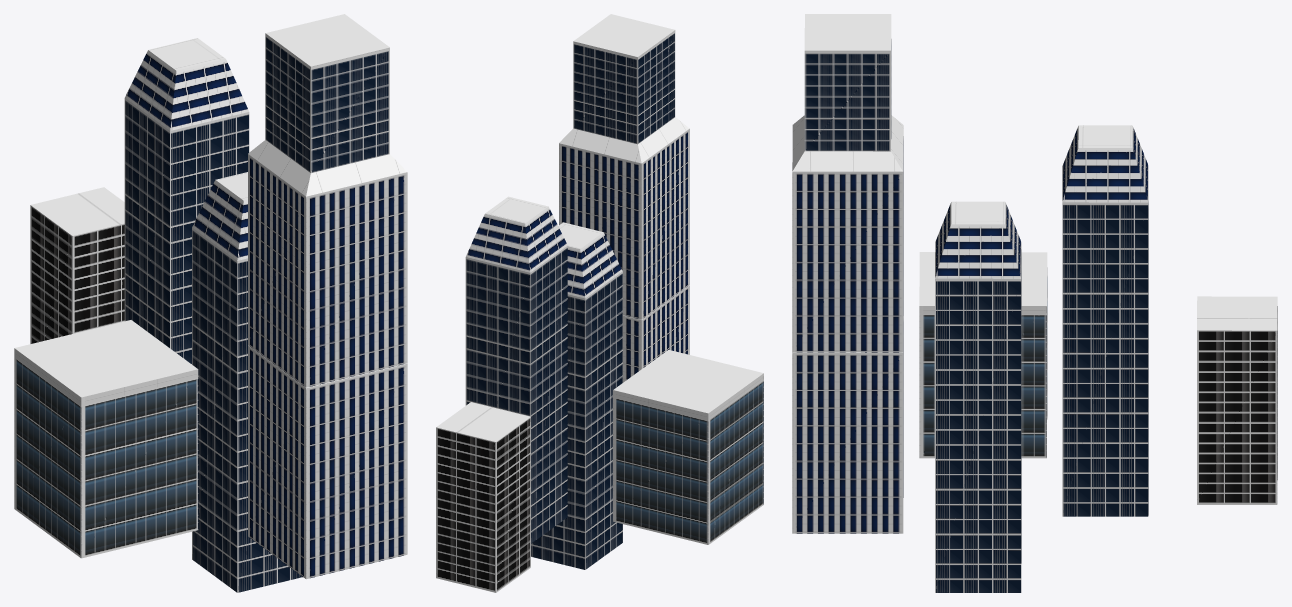
File: m_cityGroup_02.fbx
3 renders of one model, left to right at view 1: azimuth 30°, elevation 25°; view 2: azimuth 150°, elevation 25°; view 3: azimuth 270°, elevation 25°, orthographic. The views are drawn at different scales.
Parts seen in each view (by area): view 1: m_cityGroup_V02; view 2: m_cityGroup_V02; view 3: m_cityGroup_V02.
Boxes of the visible parts, <box> form: m_cityGroup_V02: <box>14,14,407,592</box>; m_cityGroup_V02: <box>436,14,763,592</box>; m_cityGroup_V02: <box>792,14,1277,592</box>.
Size of the model in its own units: 133 by 281 by 227.
